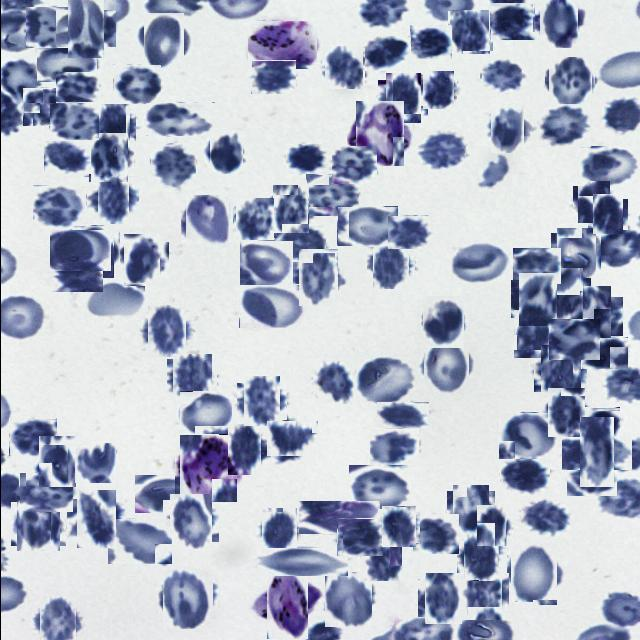difficult: (176, 438, 238, 500)
red blood cell: (160, 570, 216, 626), (353, 356, 415, 406), (106, 518, 171, 564), (506, 547, 560, 601), (348, 465, 410, 512), (238, 284, 303, 328), (498, 412, 556, 459), (419, 339, 471, 391), (322, 574, 374, 626), (570, 426, 622, 478), (449, 240, 510, 284), (298, 501, 379, 534), (577, 146, 638, 188), (566, 291, 616, 342), (256, 548, 347, 576), (49, 230, 110, 271), (138, 16, 188, 66), (13, 499, 62, 549), (166, 496, 215, 546), (71, 494, 120, 544), (336, 206, 397, 246), (144, 102, 214, 136), (536, 103, 590, 147), (240, 241, 294, 285), (61, 4, 109, 53), (32, 185, 85, 229), (178, 390, 231, 434), (83, 282, 144, 320), (182, 197, 230, 245), (68, 227, 116, 275), (418, 298, 466, 346), (294, 254, 342, 302), (457, 570, 505, 618), (305, 174, 358, 216), (36, 45, 96, 82), (536, 348, 583, 395), (134, 475, 192, 513), (546, 58, 592, 105), (18, 472, 72, 512), (552, 230, 598, 276), (540, 272, 586, 318), (514, 276, 560, 322), (548, 319, 599, 360), (169, 356, 214, 402), (416, 130, 465, 172), (144, 308, 188, 354), (534, 0, 580, 44), (149, 144, 195, 188), (35, 439, 79, 484), (499, 458, 549, 497), (120, 238, 164, 282), (510, 313, 554, 357), (86, 136, 130, 180), (420, 576, 464, 620), (112, 64, 160, 104), (520, 498, 569, 537), (48, 102, 98, 140), (381, 76, 424, 120), (222, 428, 266, 471), (544, 391, 588, 434), (270, 417, 313, 461), (448, 488, 492, 531), (240, 379, 282, 424), (0, 58, 42, 103), (25, 7, 71, 48), (311, 361, 354, 404), (412, 514, 458, 554), (274, 226, 325, 262), (8, 418, 56, 456), (448, 10, 491, 52), (34, 599, 78, 640), (49, 258, 102, 292), (370, 429, 420, 465), (91, 177, 133, 219), (369, 244, 411, 286), (460, 536, 502, 578), (270, 188, 312, 230), (566, 461, 616, 496), (336, 518, 382, 556), (512, 248, 560, 284), (486, 108, 527, 150), (362, 36, 411, 71), (331, 146, 376, 184), (489, 2, 534, 40), (322, 47, 363, 88), (258, 510, 300, 550), (74, 442, 114, 483), (234, 199, 275, 239), (42, 140, 90, 174), (22, 88, 64, 126), (360, 545, 400, 584), (250, 60, 295, 94), (206, 132, 245, 171), (479, 58, 522, 93), (580, 337, 627, 369), (94, 106, 132, 144), (574, 184, 612, 222), (380, 507, 418, 545), (409, 25, 451, 59), (386, 215, 428, 249), (55, 72, 98, 104), (376, 402, 428, 428), (473, 507, 509, 543), (285, 144, 326, 174), (420, 72, 454, 108), (590, 196, 624, 232), (583, 407, 619, 438)
trophozoite: (247, 21, 316, 69), (258, 574, 315, 632), (350, 105, 408, 162)
